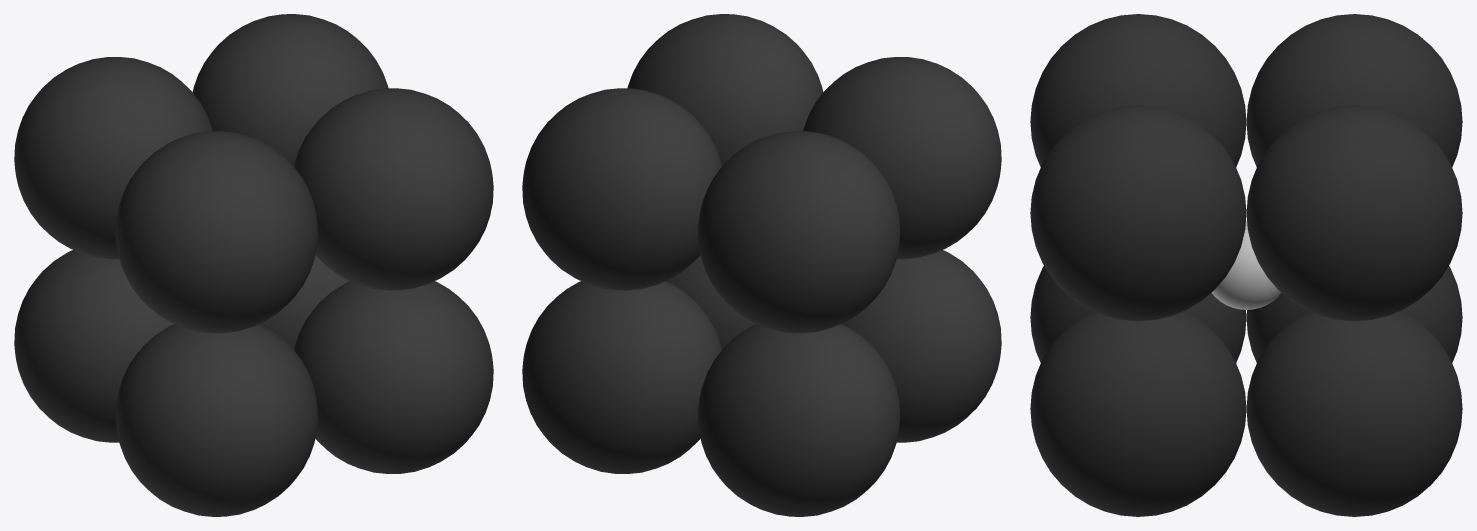
File: solid_state_qn_003.glb
3 views of the same model, side by side, from view 1: azimuth 30°, elevation 25°; view 2: azimuth 150°, elevation 25°; view 3: azimuth 270°, elevation 25° (orthographic). The views are drawn at different scales.
Parts seen in each view (by area): view 1: Icosphere.006, Icosphere.010, Icosphere.005, Icosphere.009, Icosphere.003, Icosphere.007, Icosphere.004, Icosphere.008; view 2: Icosphere.003, Icosphere.007, Icosphere.004, Icosphere.008, Icosphere.006, Icosphere.010, Icosphere.005, Icosphere.009; view 3: Icosphere.005, Icosphere.004, Icosphere.008, Icosphere.009, Icosphere.003, Icosphere.006, Icosphere.007, Icosphere.010, Icosphere.011.
Boxes of the visible parts, box(x1,y1,x2,y2) form: Icosphere.006: box(115, 131, 317, 333); Icosphere.010: box(115, 324, 317, 516); Icosphere.005: box(294, 88, 493, 290); Icosphere.009: box(294, 281, 493, 473); Icosphere.003: box(14, 57, 212, 259); Icosphere.007: box(14, 250, 173, 442); Icosphere.004: box(192, 14, 388, 165); Icosphere.008: box(260, 255, 349, 349); Icosphere.003: box(698, 131, 900, 333); Icosphere.007: box(698, 324, 900, 516); Icosphere.004: box(522, 88, 721, 290); Icosphere.008: box(522, 281, 721, 473); Icosphere.006: box(803, 57, 1001, 259); Icosphere.010: box(842, 250, 1001, 442); Icosphere.005: box(627, 14, 823, 165); Icosphere.009: box(666, 255, 755, 349); Icosphere.005: box(1030, 105, 1246, 321); Icosphere.004: box(1246, 105, 1462, 321); Icosphere.008: box(1246, 311, 1462, 516); Icosphere.009: box(1030, 311, 1246, 516); Icosphere.003: box(1246, 14, 1462, 167); Icosphere.006: box(1030, 14, 1246, 167); Icosphere.007: box(1246, 266, 1462, 362); Icosphere.010: box(1030, 266, 1246, 362); Icosphere.011: box(1211, 221, 1281, 309).
Bounding box in the file's own units: 4 × 4 × 4.
Materials: 1 (1 with a texture image).
